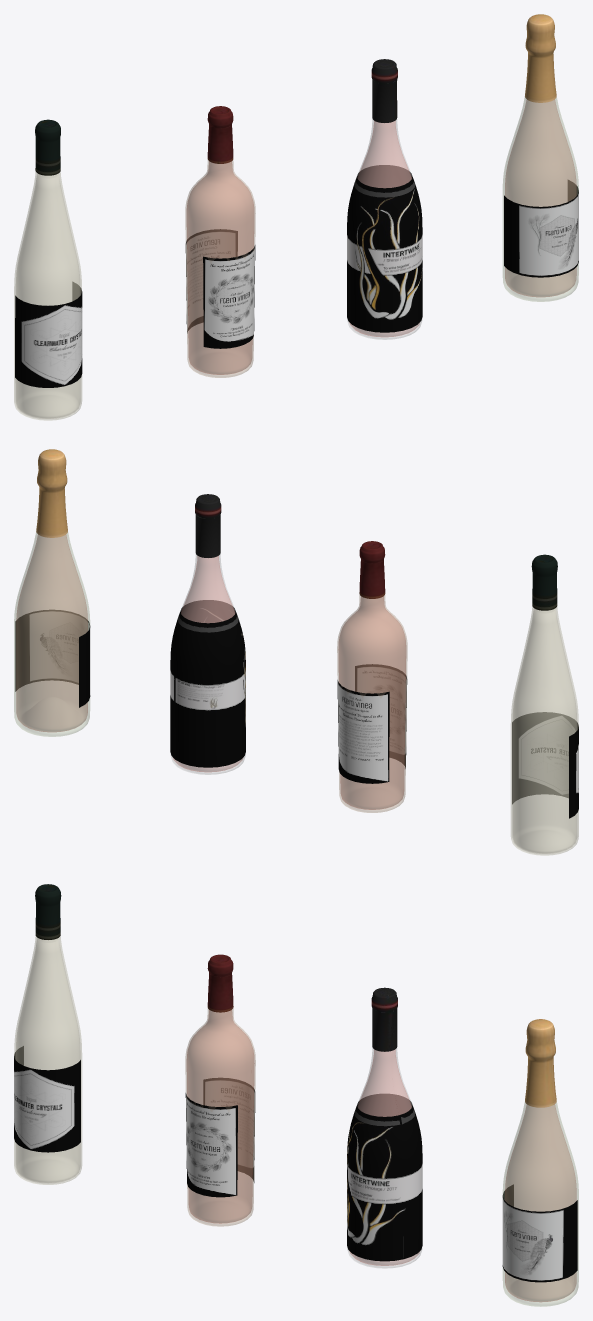
File: wine_bottles_01.glb
3 renders of one model, top to bottom at view 1: azimuth 30°, elevation 25°; view 2: azimuth 150°, elevation 25°; view 3: azimuth 330°, elevation 25°, orthographic.
Parts seen in each view (by area): view 1: wine_bottles_01_champagne, wine_bottles_01_alsace, wine_bottles_01_burgundy, wine_bottles_01_bordeaux; view 2: wine_bottles_01_champagne, wine_bottles_01_alsace, wine_bottles_01_burgundy, wine_bottles_01_bordeaux; view 3: wine_bottles_01_champagne, wine_bottles_01_alsace, wine_bottles_01_burgundy, wine_bottles_01_bordeaux.
Part boxes in pixels (box(x1,y1,x2,y2)): wine_bottles_01_champagne: box(503, 14, 578, 301); wine_bottles_01_alsace: box(14, 119, 82, 420); wine_bottles_01_burgundy: box(347, 59, 422, 339); wine_bottles_01_bordeaux: box(185, 106, 255, 377); wine_bottles_01_champagne: box(14, 449, 90, 736); wine_bottles_01_alsace: box(511, 554, 578, 855); wine_bottles_01_burgundy: box(170, 494, 245, 774); wine_bottles_01_bordeaux: box(337, 541, 407, 812); wine_bottles_01_champagne: box(502, 1019, 578, 1306); wine_bottles_01_alsace: box(14, 884, 81, 1184); wine_bottles_01_burgundy: box(347, 987, 422, 1268); wine_bottles_01_bordeaux: box(185, 954, 255, 1226).
Bounding box in the file's own units: 0.6763 × 0.3314 × 0.0805.
12 materials, 9 textured.
